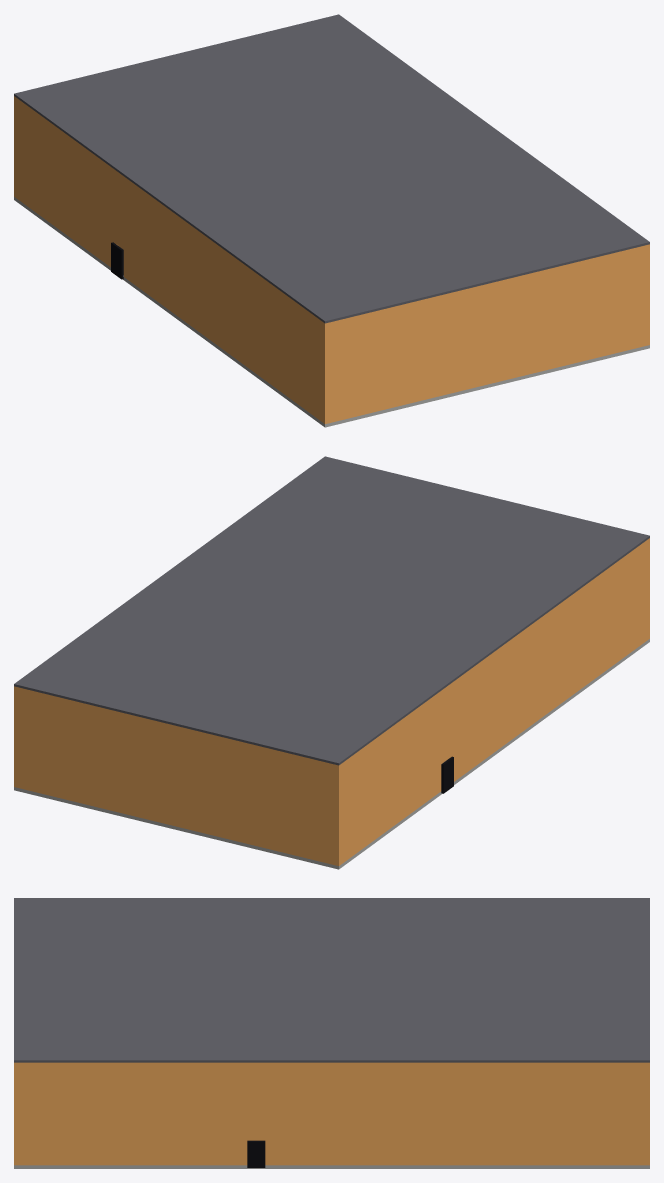
The model's file is rdwe_trampoline.glb.
3 renders of one model, top to bottom at view 1: azimuth 30°, elevation 25°; view 2: azimuth 150°, elevation 25°; view 3: azimuth 270°, elevation 25°, orthographic. The views are drawn at different scales.
Visible parts, largest first — view 1: Park_Ceiling, Park_Wall_S_1, Park_Wall_W_3, Park_Wall_W_1, Park_Floor, Park_Wall_W_2; view 2: Park_Ceiling, Park_Wall_N_1, Park_Wall_W_3, Park_Wall_W_1, Park_Floor, Park_Wall_W_2; view 3: Park_Ceiling, Park_Wall_E_1, Park_Wall_E_3, Park_Floor, Park_Wall_E_2, Beyond_bounce.
Boxes of the visible parts, box(x1,y1,x2,y2) form: Park_Ceiling: box(14, 14, 649, 323); Park_Wall_S_1: box(323, 244, 649, 423); Park_Wall_W_3: box(124, 176, 323, 422); Park_Wall_W_1: box(15, 97, 117, 267); Park_Floor: box(14, 197, 649, 427); Park_Wall_W_2: box(116, 171, 123, 249); Park_Ceiling: box(14, 456, 649, 765); Park_Wall_N_1: box(14, 686, 340, 865); Park_Wall_W_3: box(447, 539, 648, 781); Park_Wall_W_1: box(340, 691, 441, 864); Park_Floor: box(14, 639, 649, 869); Park_Wall_W_2: box(441, 685, 448, 763); Park_Ceiling: box(14, 898, 649, 1062); Park_Wall_E_1: box(262, 1062, 647, 1165); Park_Wall_E_3: box(16, 1062, 249, 1165); Park_Floor: box(14, 1165, 649, 1168); Park_Wall_E_2: box(250, 1062, 262, 1140); Beyond_bounce: box(247, 1140, 265, 1167).
Bounding box in the file's own units: 31.1 × 9.5 × 50.4.
